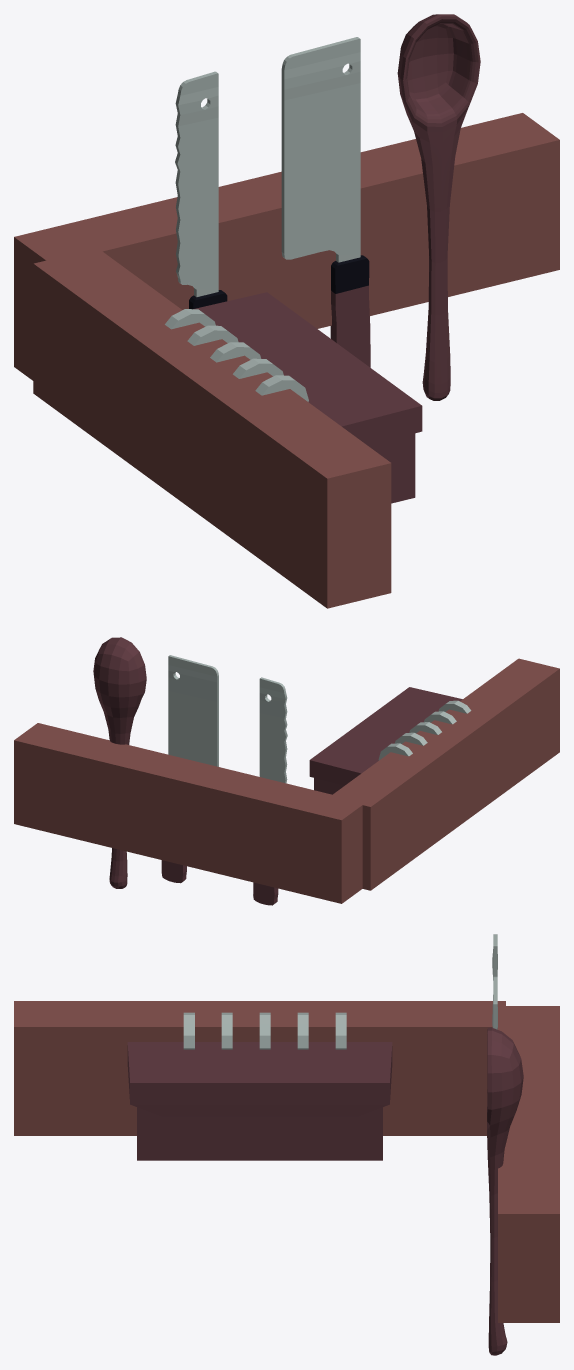
The model's file is jogo de facas.fbx.
3 renders of one model, top to bottom at view 1: azimuth 30°, elevation 25°; view 2: azimuth 150°, elevation 25°; view 3: azimuth 270°, elevation 25°, orthographic. The views are drawn at different scales.
Visible parts, largest first — view 1: Cube.058; view 2: Cube.058; view 3: Cube.058.
Boxes of the visible parts, x1,y1,x2,y2 form: Cube.058: (14, 14, 559, 608); Cube.058: (14, 637, 559, 905); Cube.058: (14, 934, 559, 1355).
Size of the model in its own units: 92.95 by 65.83 by 101.
